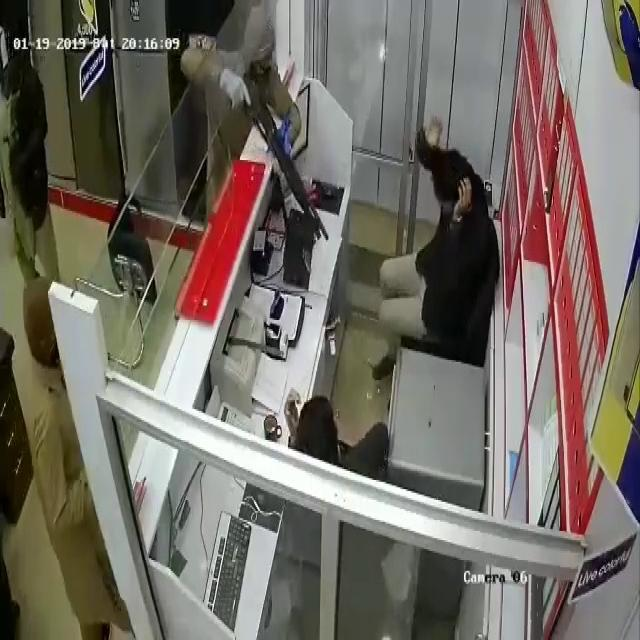weapon: (242, 72, 329, 248)
